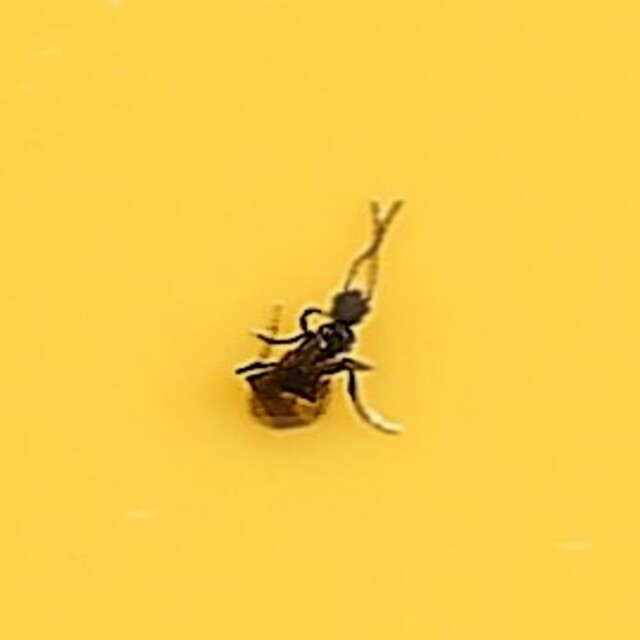Hymenoptera: (238, 201, 402, 439)
